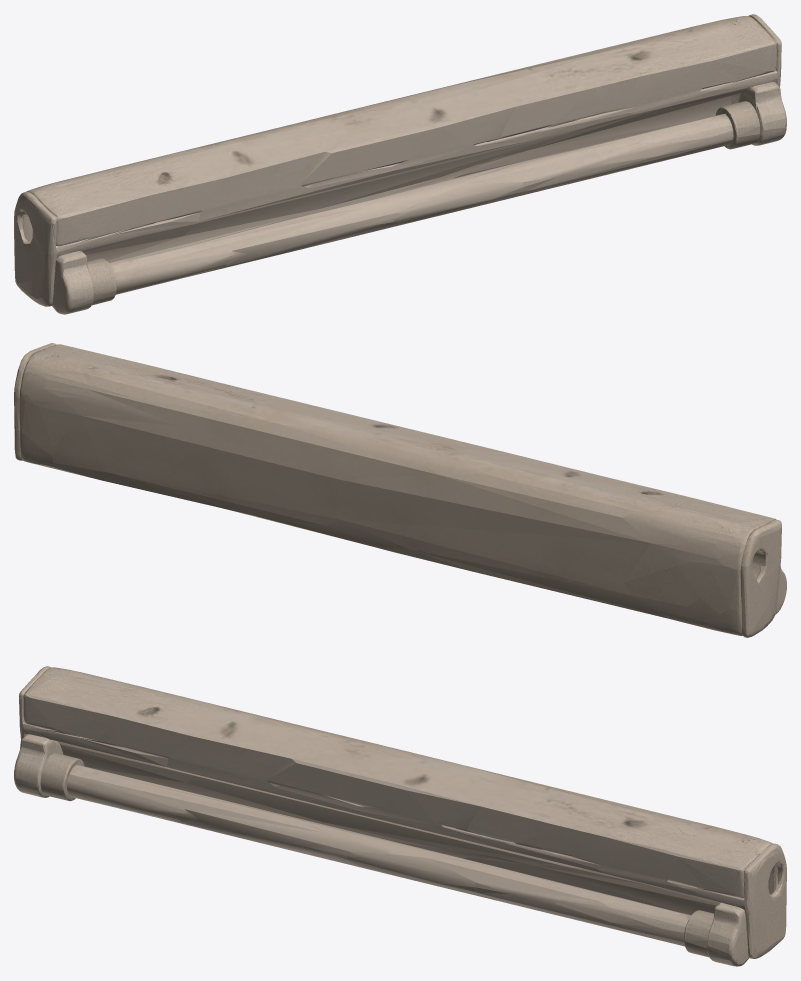
The model's file is neon.glb.
3 renders of one model, top to bottom at view 1: azimuth 30°, elevation 25°; view 2: azimuth 150°, elevation 25°; view 3: azimuth 330°, elevation 25°, orthographic.
Visible parts, largest first — view 1: Mesh_0; view 2: Mesh_0; view 3: Mesh_0.
Part boxes in pixels (left/top/right/bottom): Mesh_0: left=14, top=14, right=786, bottom=314; Mesh_0: left=14, top=343, right=786, bottom=637; Mesh_0: left=14, top=666, right=786, bottom=966.
Bounding box in the file's own units: 1.9 × 0.2642 × 0.2284.
1 material, 1 textured.
